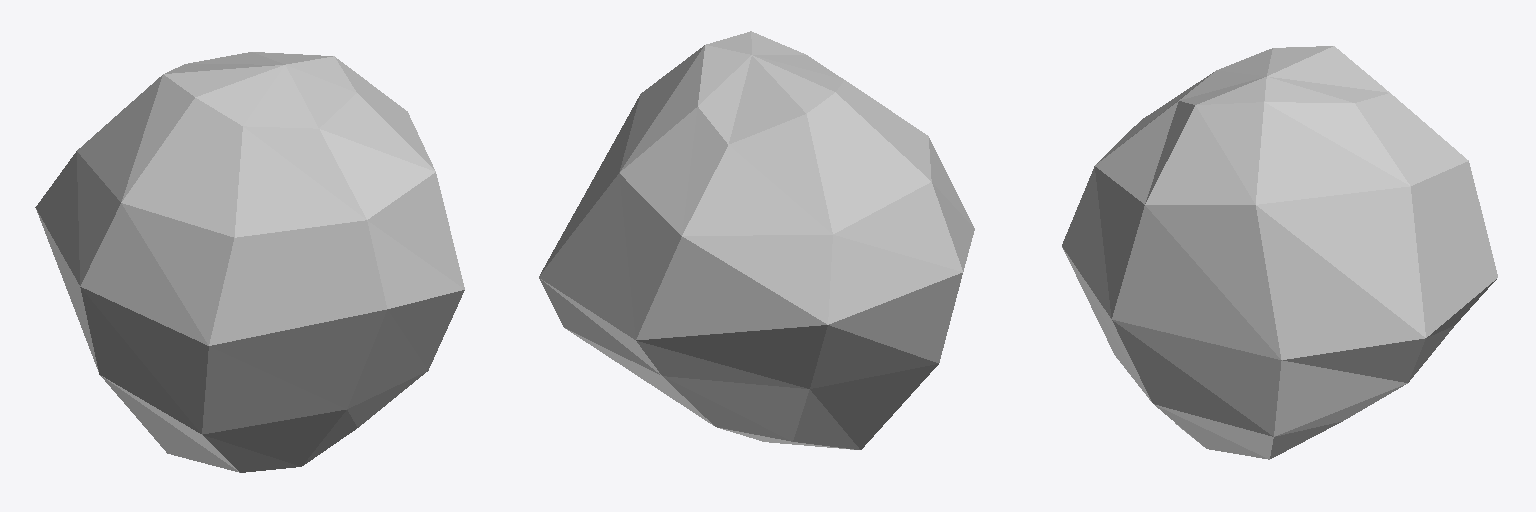
File: bgrnd05_static.obj
The picture shows the model from 3 angles: view 1: azimuth 30°, elevation 25°; view 2: azimuth 150°, elevation 25°; view 3: azimuth 270°, elevation 25°; orthographic projection.
Visible parts, largest first — view 1: frm-sphere2; view 2: frm-sphere2; view 3: frm-sphere2.
Part boxes in pixels (x1,y1,x2,y2): frm-sphere2: (35,52,464,472); frm-sphere2: (539,31,974,449); frm-sphere2: (1062,46,1497,459).
Size of the model in its own units: 9.89 by 9.7 by 10.07.